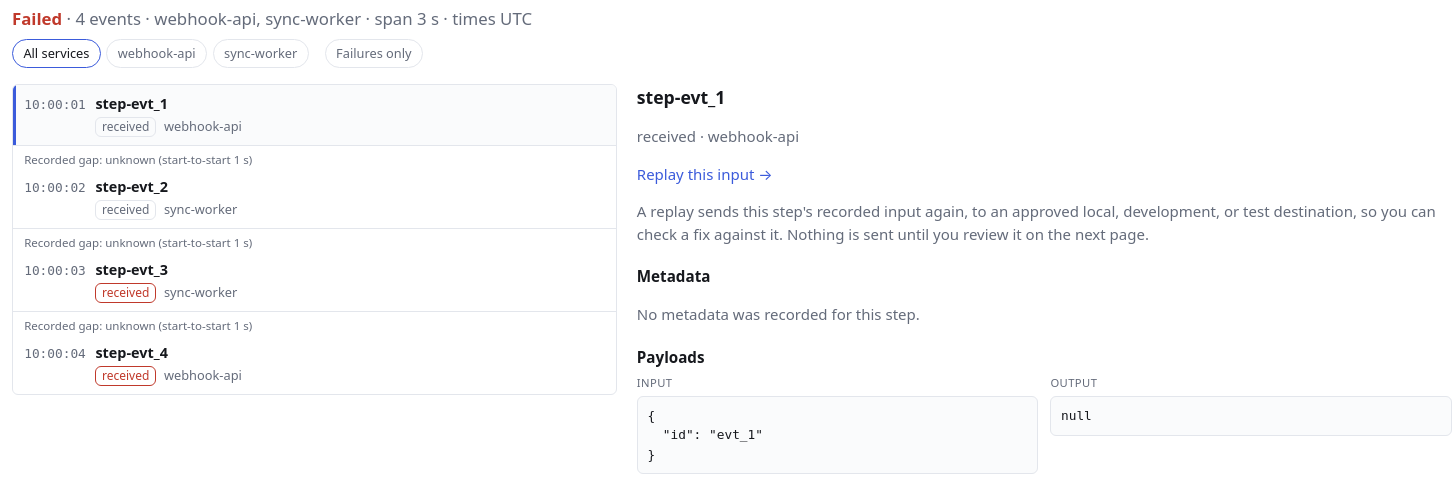
Test: JourneyTimeline › filters to failures and moves the selection to the first one
This screenshot has width=1452, height=491.
Click the button "Failures only" at [374, 53], box [325, 39, 423, 68]
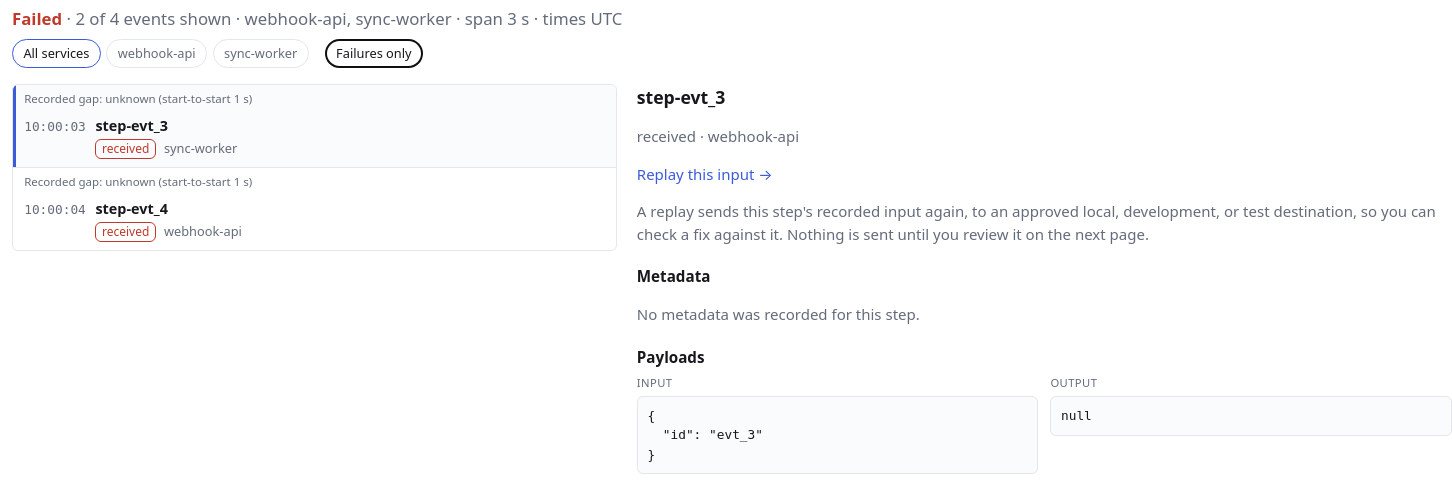
Expected: the number of options is 2, [13, 85, 616, 168]; [24, 174, 252, 242]
Result: the heading "step-evt_3" is shown at [637, 85, 725, 109]
Result: the text "2 of 4 events shown" is shown at [75, 7, 231, 30]
